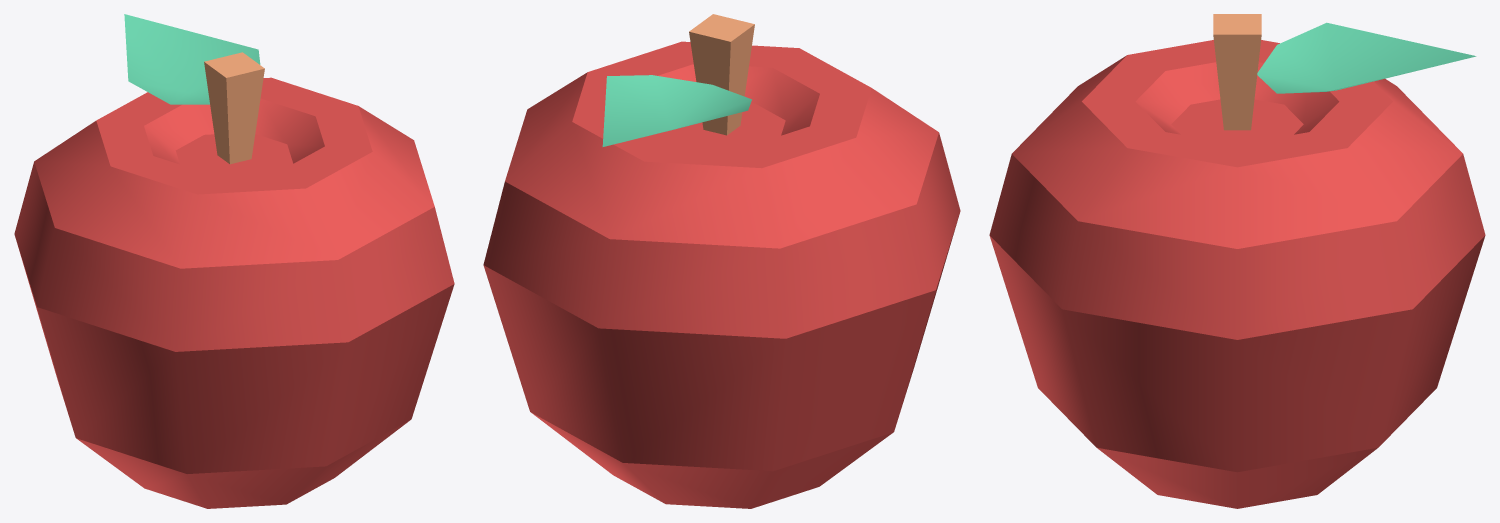
The model's file is apple.obj.
The picture shows the model from 3 angles, left to right: view 1: azimuth 30°, elevation 25°; view 2: azimuth 150°, elevation 25°; view 3: azimuth 270°, elevation 25°; orthographic projection. The views are drawn at different scales.
Visible parts, largest first — view 1: apple; view 2: apple; view 3: apple.
Part boxes in pixels (x1,y1,x2,y2): apple: [14, 14, 454, 508]; apple: [483, 14, 960, 508]; apple: [989, 14, 1485, 508].
Bounding box in the file's own units: 0.1963 × 0.1908 × 0.1963.
